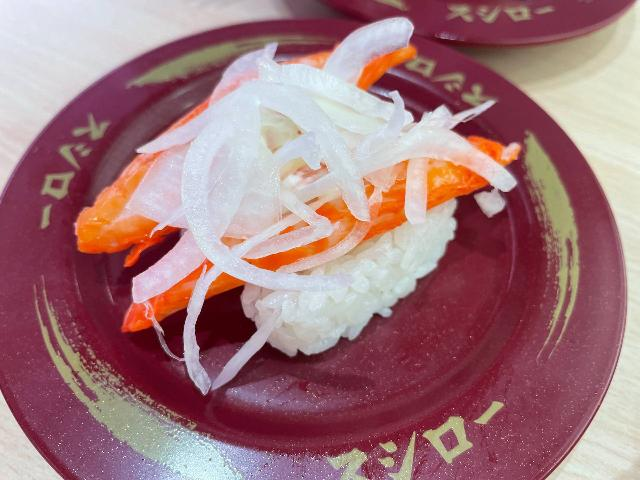janred: (12, 45, 595, 480), (316, 0, 615, 48)
